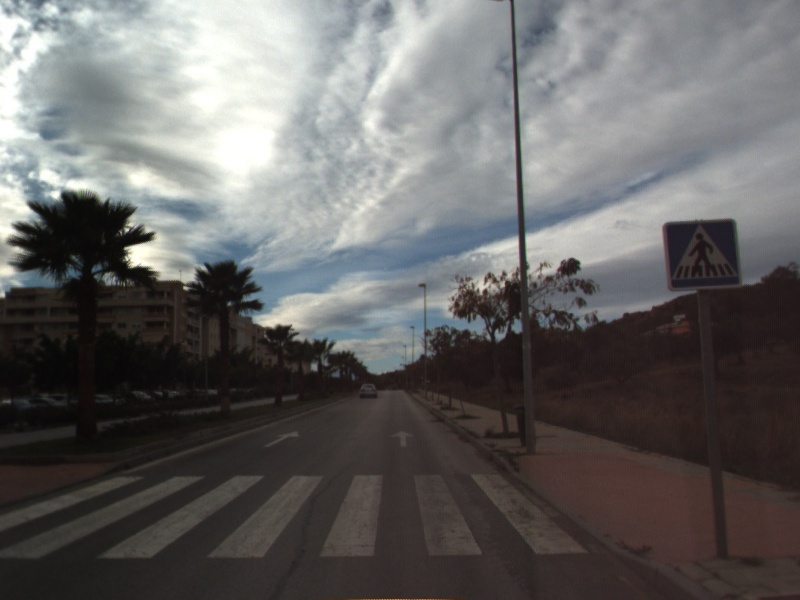STRAIGHT: (261, 429, 301, 449), (389, 428, 417, 449)
